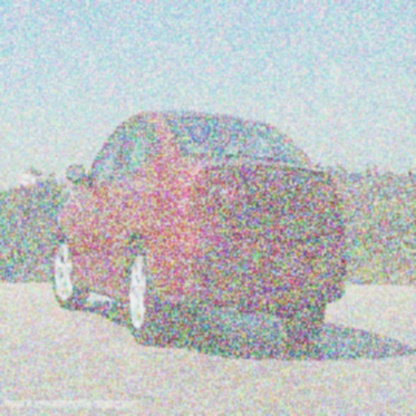Vehicle: (51, 106, 349, 348)
